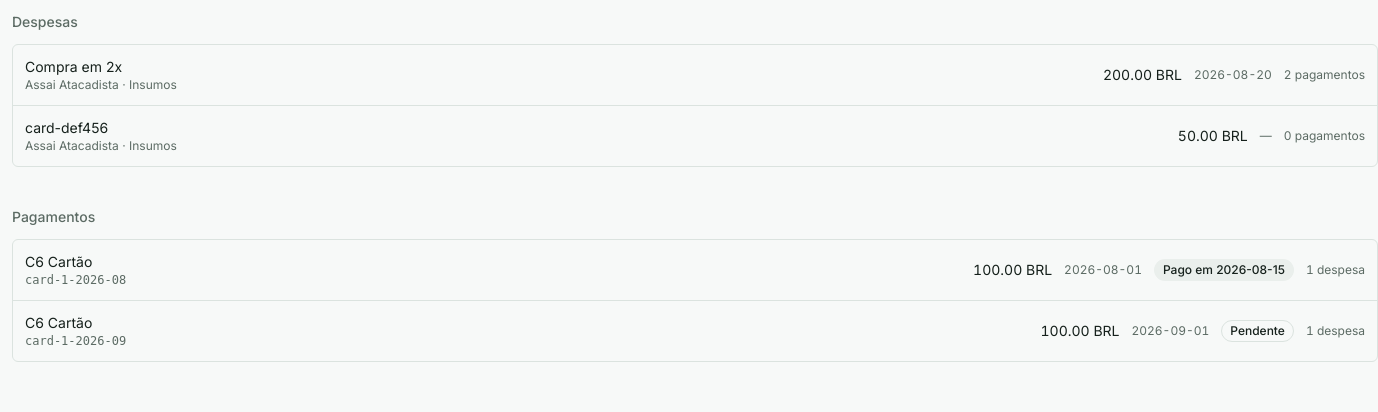
Scenario: opening an expense › says so when nothing is settled against it yet
This screenshot has width=1378, height=412.
Check: the heading "Despesas" is shown, box [12,13,78,30]
Click the button "card-def456" at coordinates (67, 128), box [25,114,1365,158]
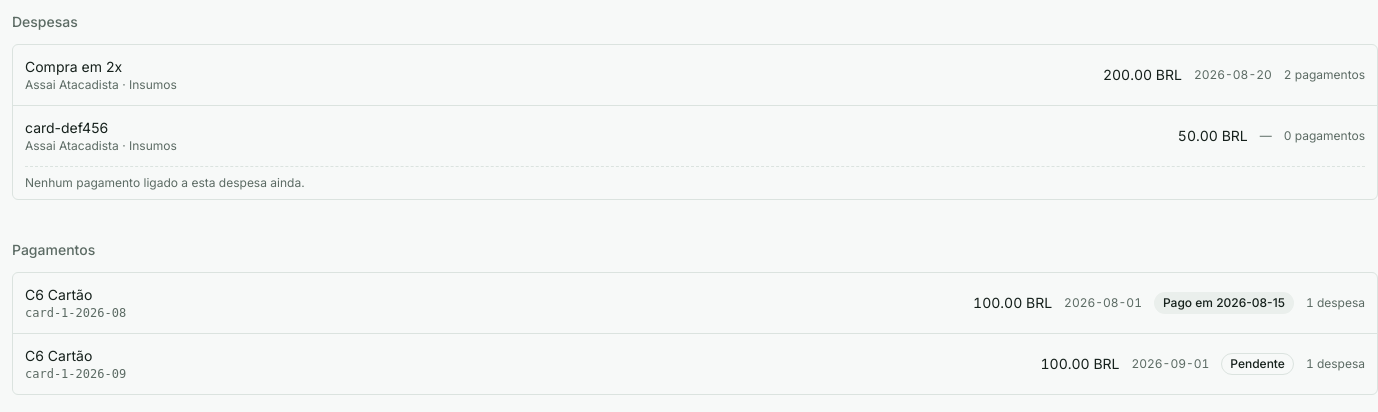
Check: the text "Nenhum pagamento ligado a esta despesa ainda." is shown, box [25,175,305,190]
